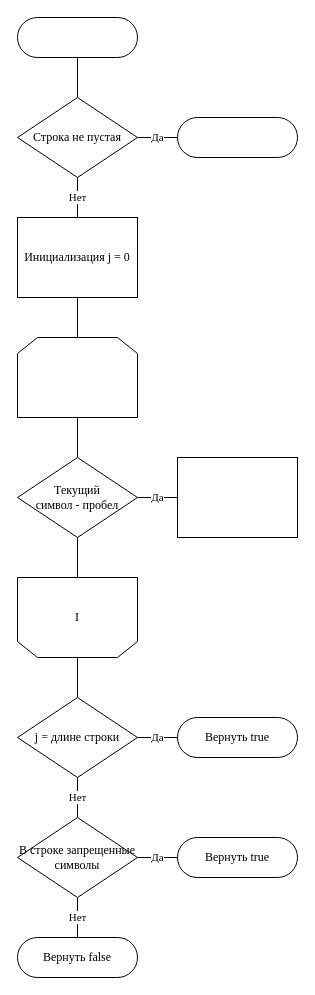
The diagram is 315 pixels wide and 995 high, and some of its shapes have lost their labels. The centre of each missing label's shape, as x and y in pixels:
"I = 0, пока I < длины строки" goes at pixel 77 377.
"j++" goes at pixel 237 497.
"valid_input ()" goes at pixel 77 37.
"Вернуть flase" goes at pixel 237 137.
